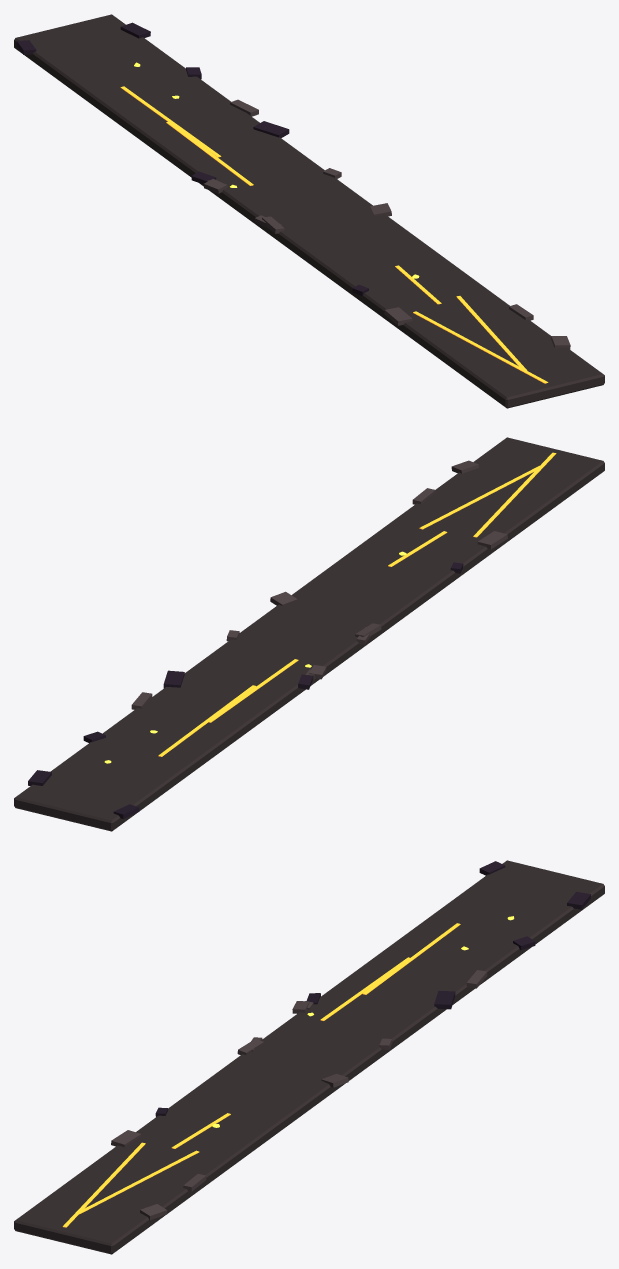
Rendered from hd_rd_lava.gltf.
3 views of the same model, one above another, from view 1: azimuth 30°, elevation 25°; view 2: azimuth 150°, elevation 25°; view 3: azimuth 330°, elevation 25° (orthographic).
Parts seen in each view (by area): view 1: ledge, seam4; view 2: ledge; view 3: ledge.
Boxes of the visible parts, box(x1,y1,x2,y2) form: ledge: box(14, 14, 604, 408); seam4: box(413, 311, 548, 383); ledge: box(14, 437, 604, 831); ledge: box(14, 860, 604, 1254).
Bounding box in the file's own units: 3.37 × 0.3876 × 24.
